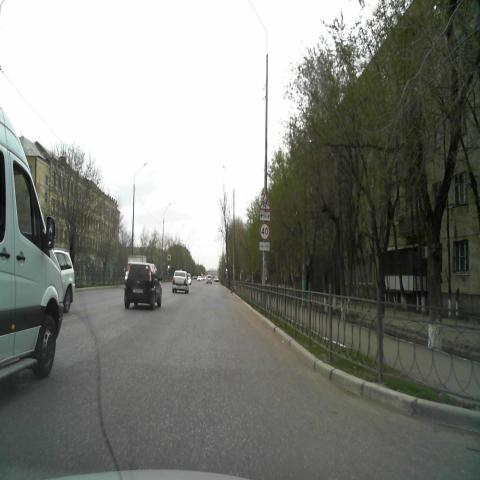1_23: (258, 194, 271, 212)
